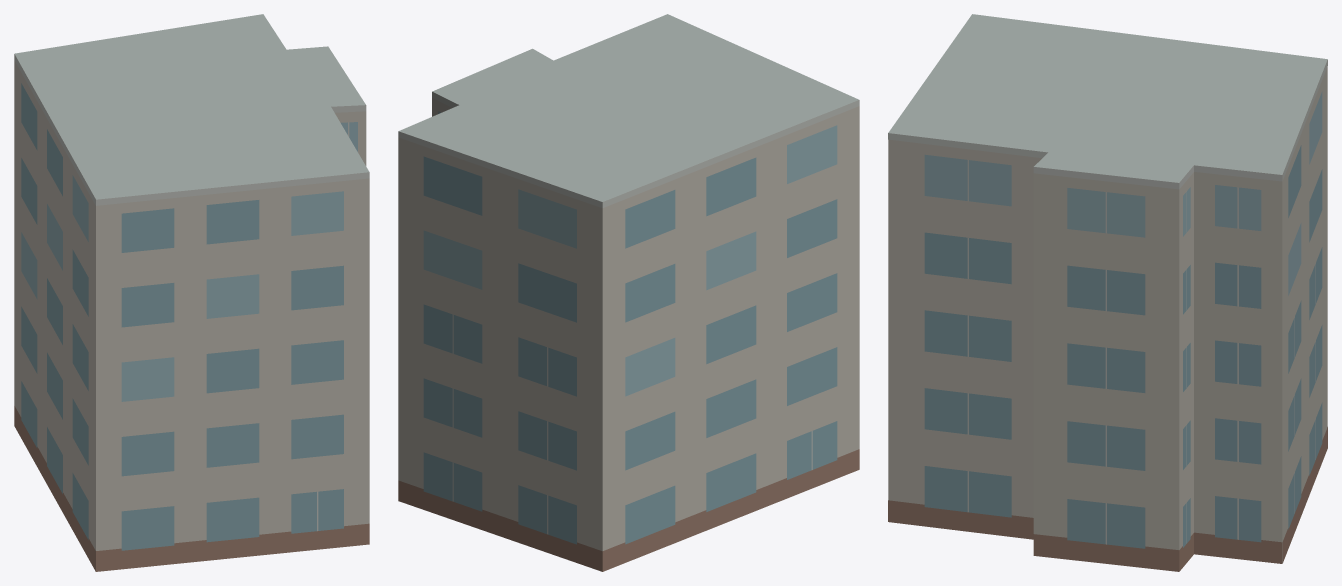
Rendered from survey-upis-32527451.glb.
The picture shows the model from 3 angles, left to right: view 1: azimuth 30°, elevation 25°; view 2: azimuth 150°, elevation 25°; view 3: azimuth 270°, elevation 25°; orthographic projection. The views are drawn at different scales.
Parts seen in each view (by area): view 1: survey-upis-32527451.tmp; view 2: survey-upis-32527451.tmp; view 3: survey-upis-32527451.tmp.
Boxes of the visible parts, x1,y1,x2,y2 form: survey-upis-32527451.tmp: (14, 14, 369, 571); survey-upis-32527451.tmp: (398, 14, 859, 571); survey-upis-32527451.tmp: (888, 14, 1327, 571).
Bounding box in the file's own units: 13.61 × 14.6 × 14.97.
